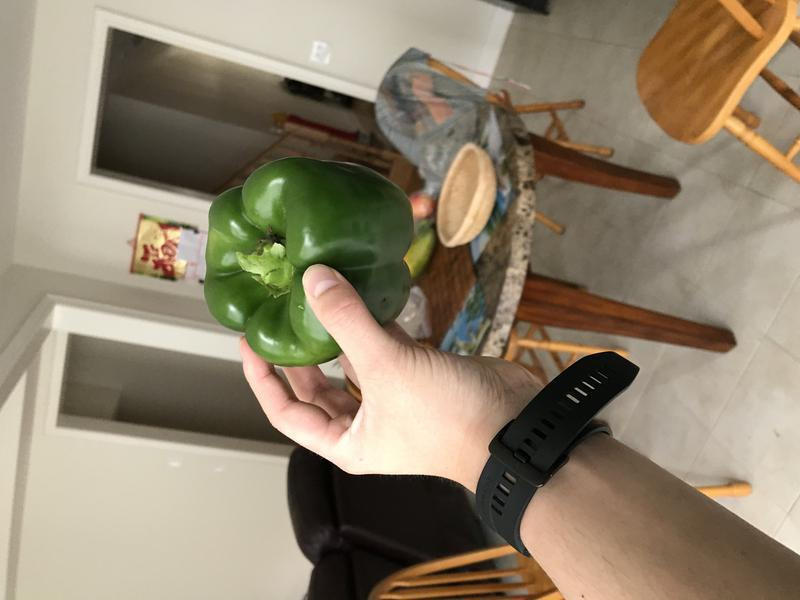green_pepper: (191, 144, 430, 375)
